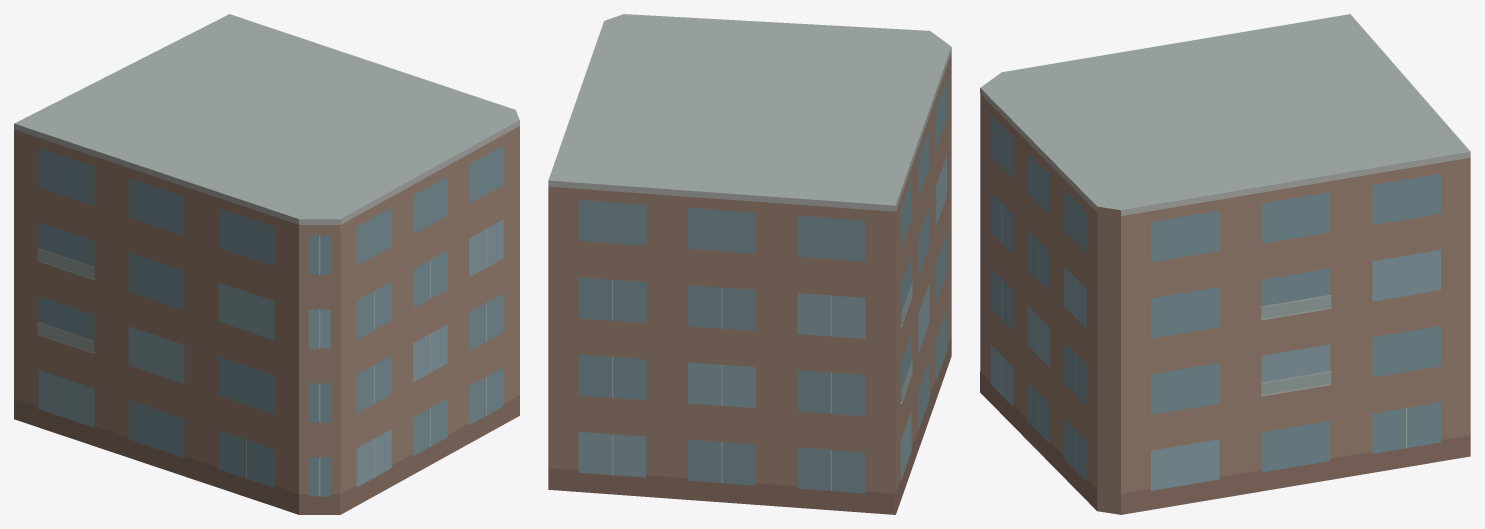
Rendered from survey-upis-32864819.glb.
The picture shows the model from 3 angles, left to right: view 1: azimuth 30°, elevation 25°; view 2: azimuth 150°, elevation 25°; view 3: azimuth 270°, elevation 25°; orthographic projection. The views are drawn at different scales.
Visible parts, largest first — view 1: survey-upis-32864819.tmp; view 2: survey-upis-32864819.tmp; view 3: survey-upis-32864819.tmp.
Part boxes in pixels (x1,y1,x2,y2): survey-upis-32864819.tmp: [14, 14, 519, 514]; survey-upis-32864819.tmp: [548, 14, 951, 514]; survey-upis-32864819.tmp: [980, 14, 1470, 514].
Bounding box in the file's own units: 17.14 × 12.4 × 18.1.
